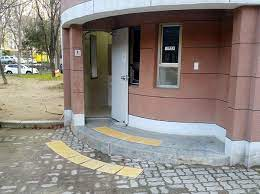guide_blocks: (47, 140, 139, 174), (95, 126, 160, 144)
